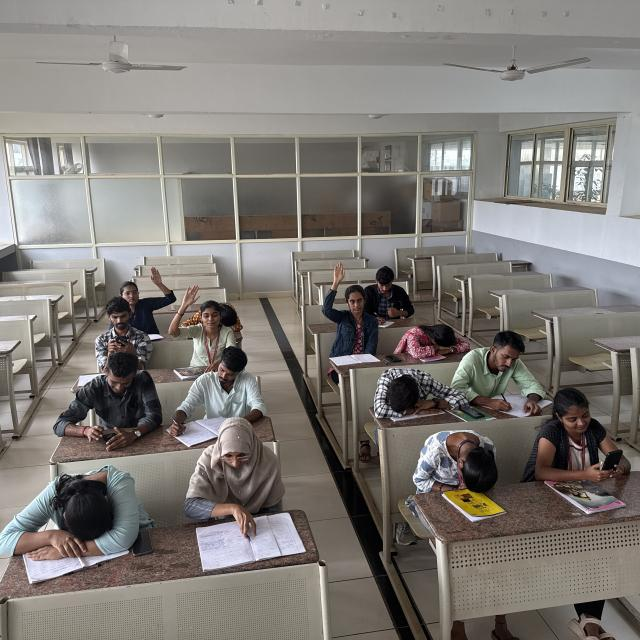Hand Rising: (320, 250, 383, 359), (172, 279, 232, 366), (113, 258, 183, 330)
Sleeping: (0, 467, 134, 570), (402, 424, 516, 488), (361, 364, 466, 418), (395, 315, 473, 356), (204, 286, 252, 337)
Using Phone: (524, 384, 632, 488), (56, 352, 169, 445), (66, 288, 160, 366)
Writing: (148, 335, 268, 434), (463, 334, 558, 410), (372, 254, 406, 333)
